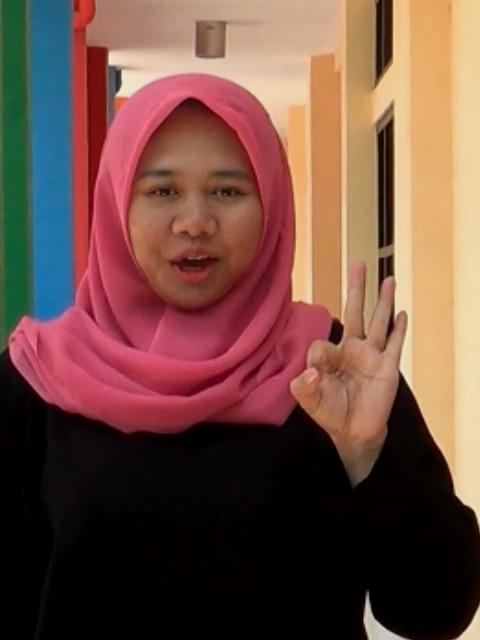F: (284, 253, 412, 443)
